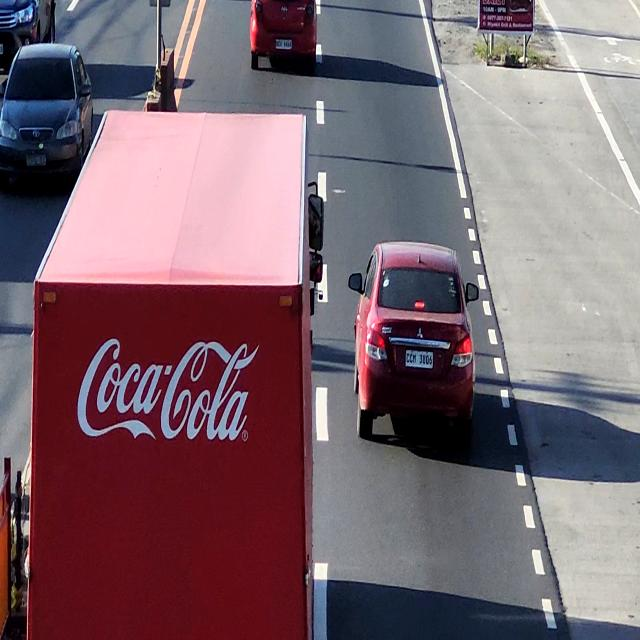Car: (352, 234, 478, 466), (248, 0, 323, 75)
License-Plate: (403, 349, 434, 371), (274, 40, 293, 49)
Truck: (36, 115, 320, 640)
